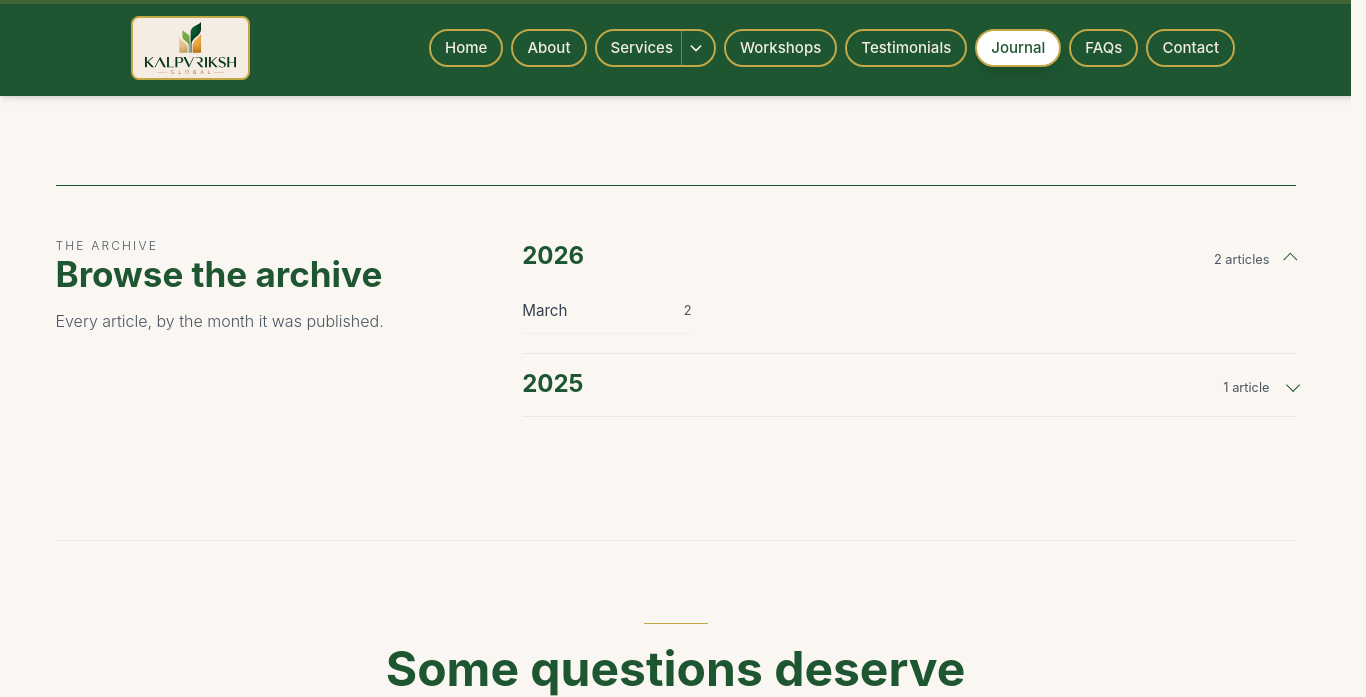
Scenario: opening an older year reveals its months
The width and height of the screenshot is (1366, 697).
(page scrolled)
Click the button "2025 1 article" at x=553, y=383, box x1=522 y1=354 x2=1296 y2=416
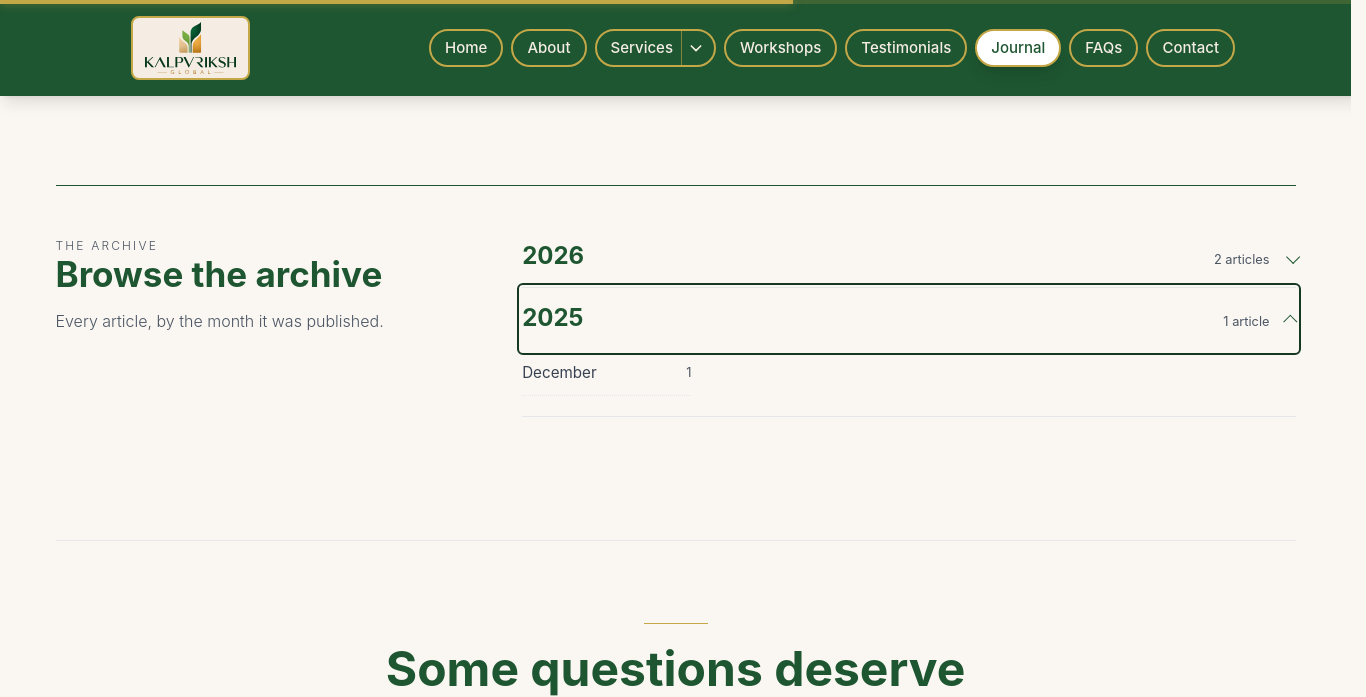
expect the button "December 1" is shown: met, box x1=522 y1=350 x2=692 y2=396
